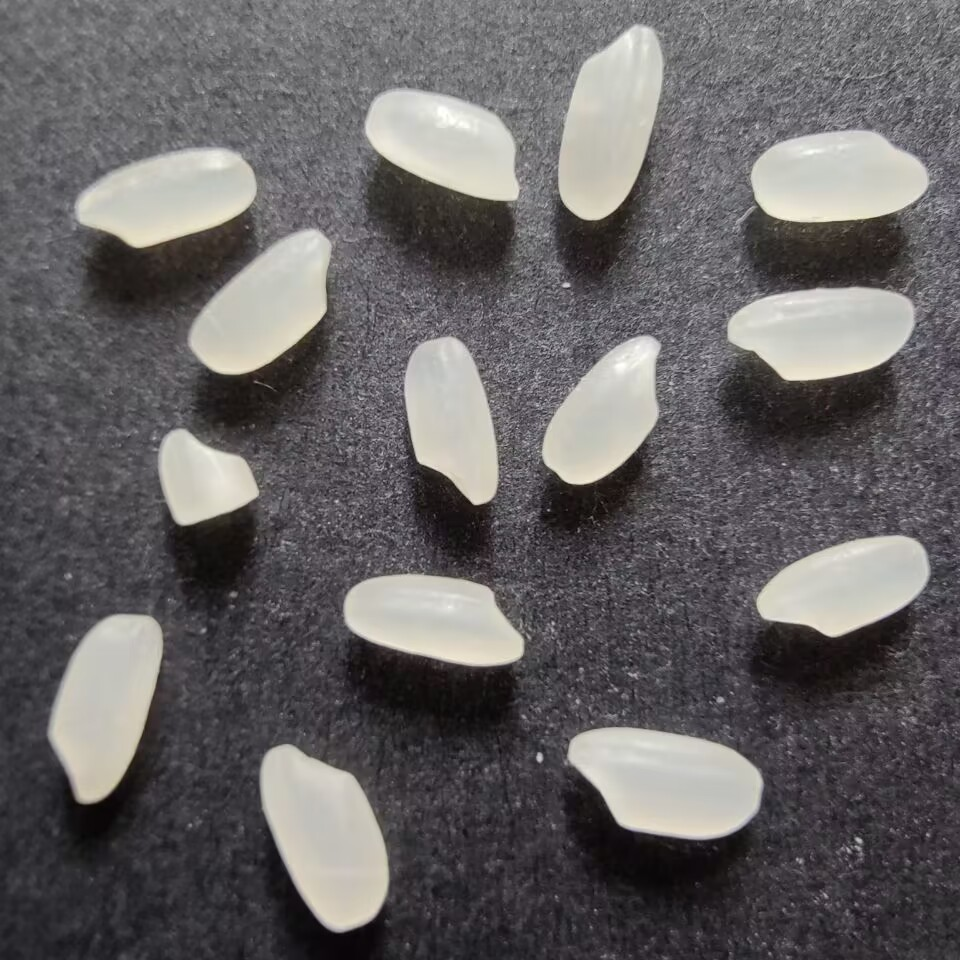broken: (152, 420, 264, 533)
rice: (255, 740, 394, 940), (563, 725, 769, 847), (44, 609, 166, 810), (186, 222, 334, 382), (555, 22, 666, 222), (67, 143, 260, 252), (361, 82, 526, 205), (721, 284, 917, 384), (339, 570, 527, 674), (752, 531, 933, 639), (541, 329, 663, 488), (746, 127, 935, 225), (396, 333, 499, 507)
